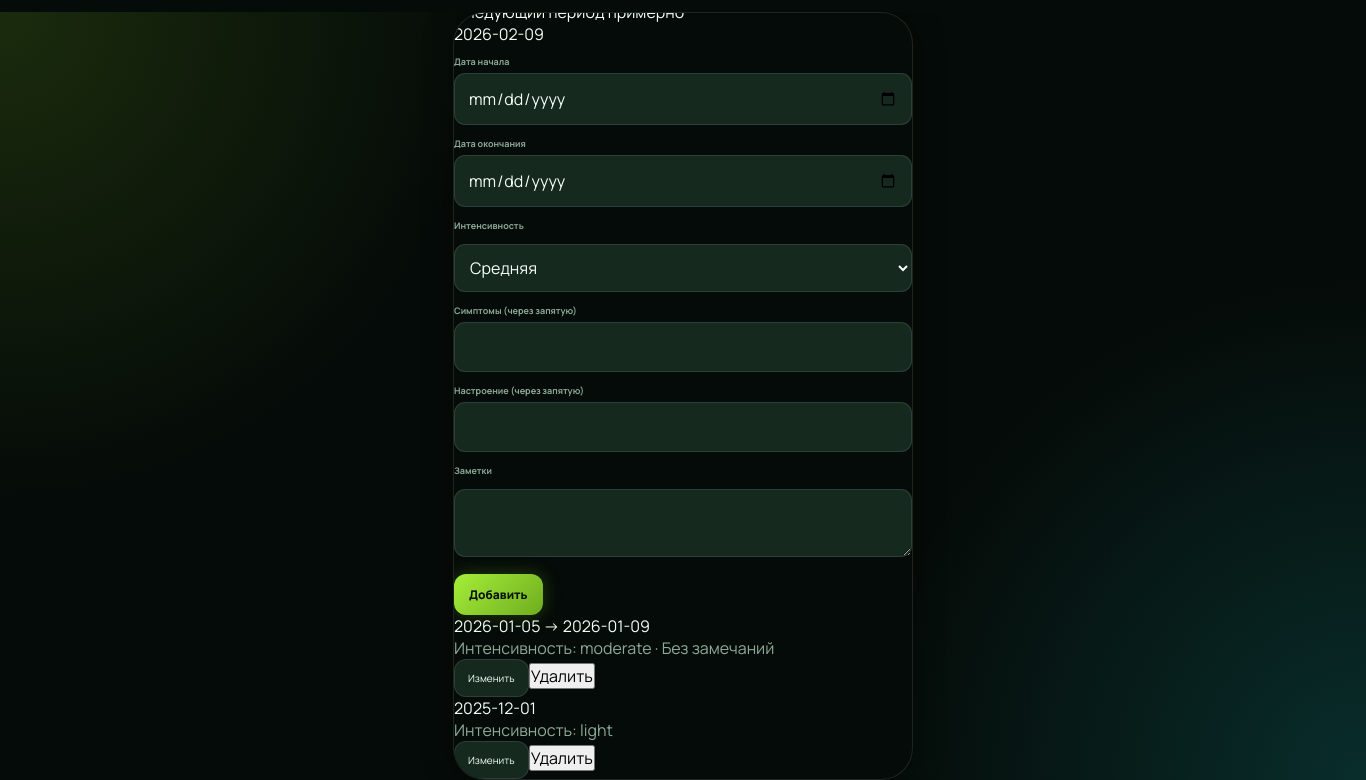
Menstrual › edits existing cycle and saves updates
This screenshot has width=1366, height=780.
(page scrolled)
Expected: the text "2026-01-05 → 2026-01-09" is shown, [454,615,650,637]
Step 1. Click the button "Изменить" below "Интенсивность: moderate · Без замечаний" → (491, 678), box [454,659,529,697]
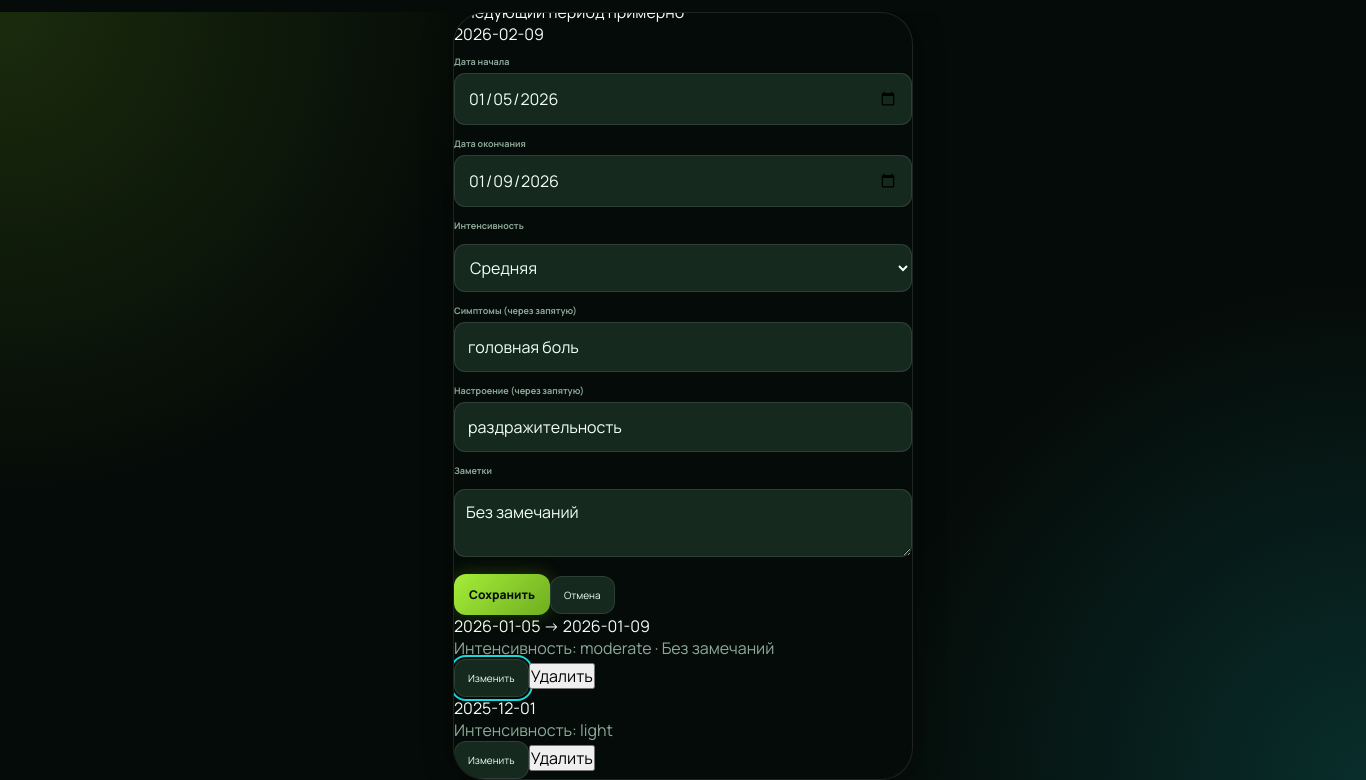
Now the date field with id "start_date" holds "2026-01-05", box [454,73,912,125]
Now the date field with id "end_date" holds "2026-01-09", box [454,155,912,207]
Now the field with id "symptoms" holds "головная боль", box [454,322,912,372]
Step 2. Select "Легкая" in the dropdown with id "flow_intensity" → (683, 268), box [454,244,912,292]
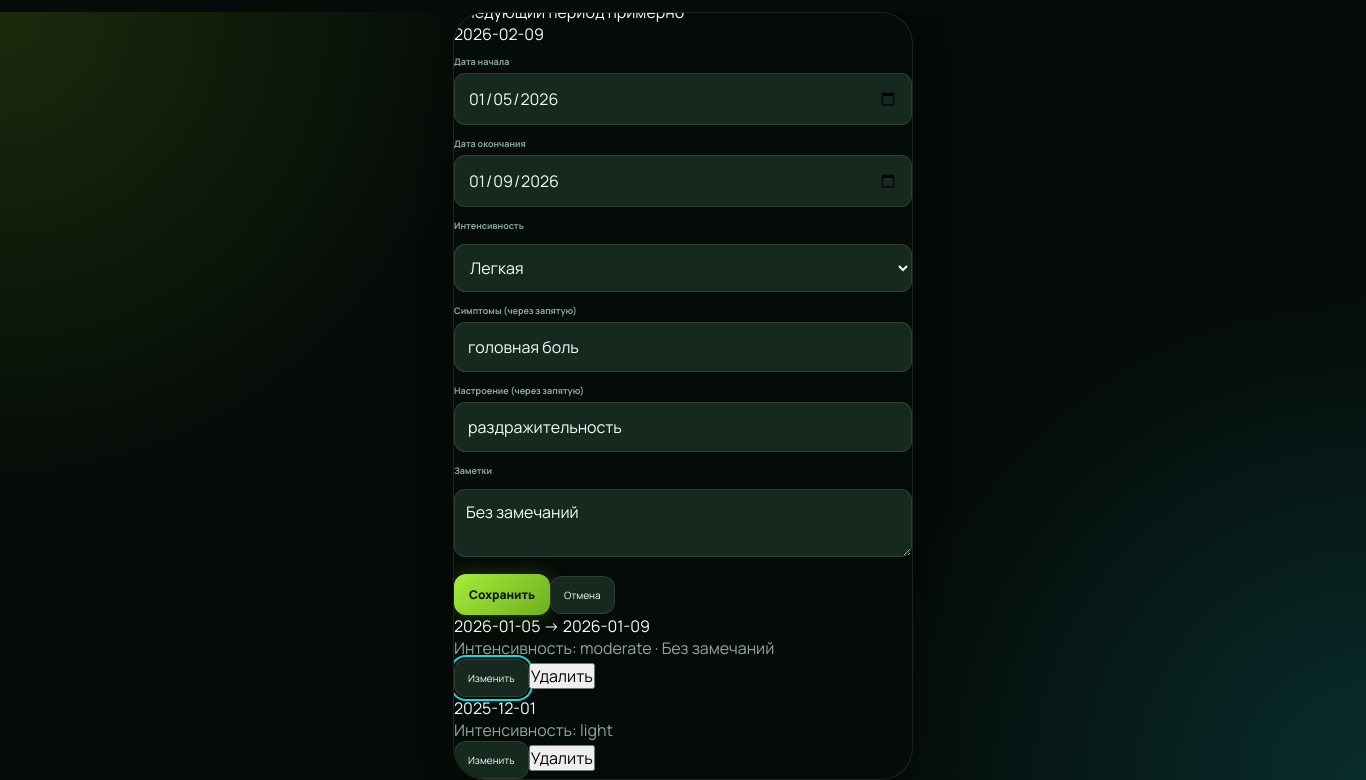
Step 3. Type "2026-01-10" into the date field with id "end_date" → (683, 181), box [454,155,912,207]
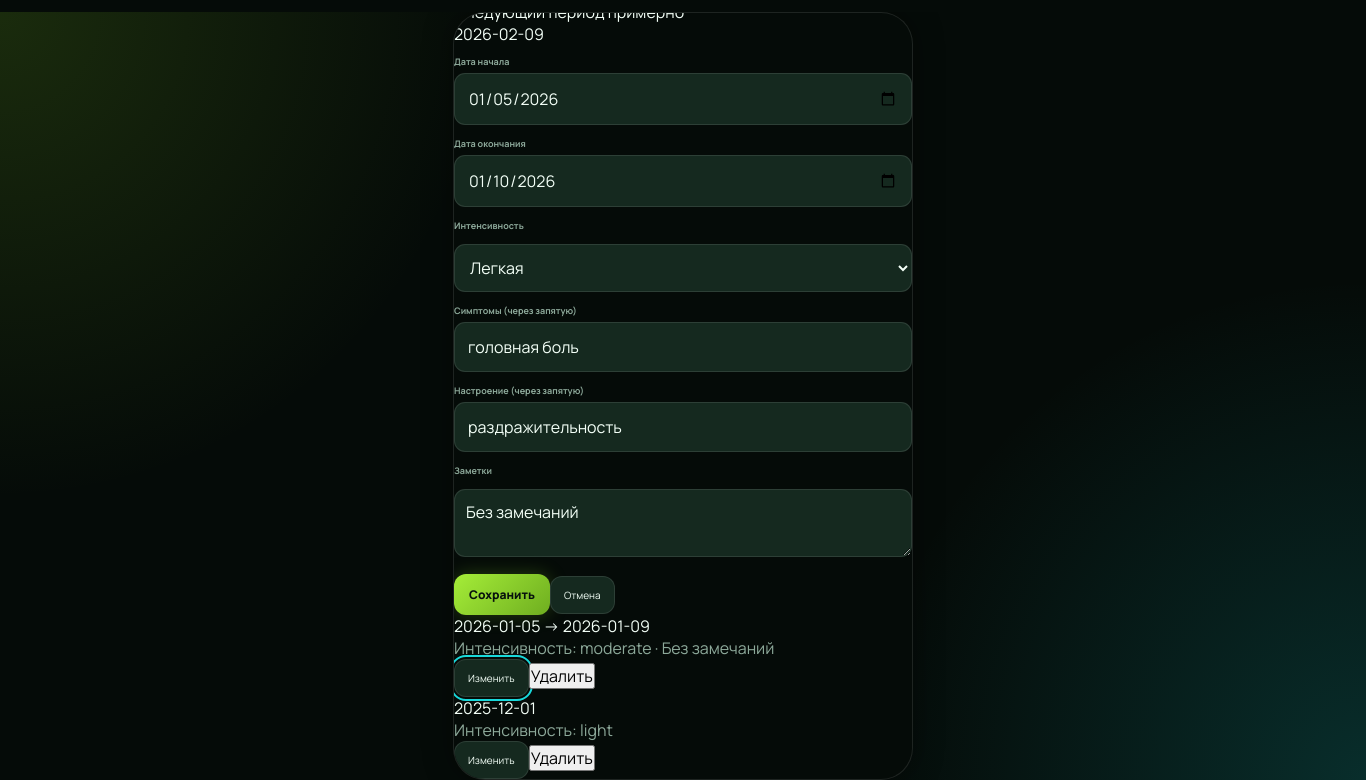
Step 4. Click the button "Сохранить" → (502, 595), box [454,574,550,615]
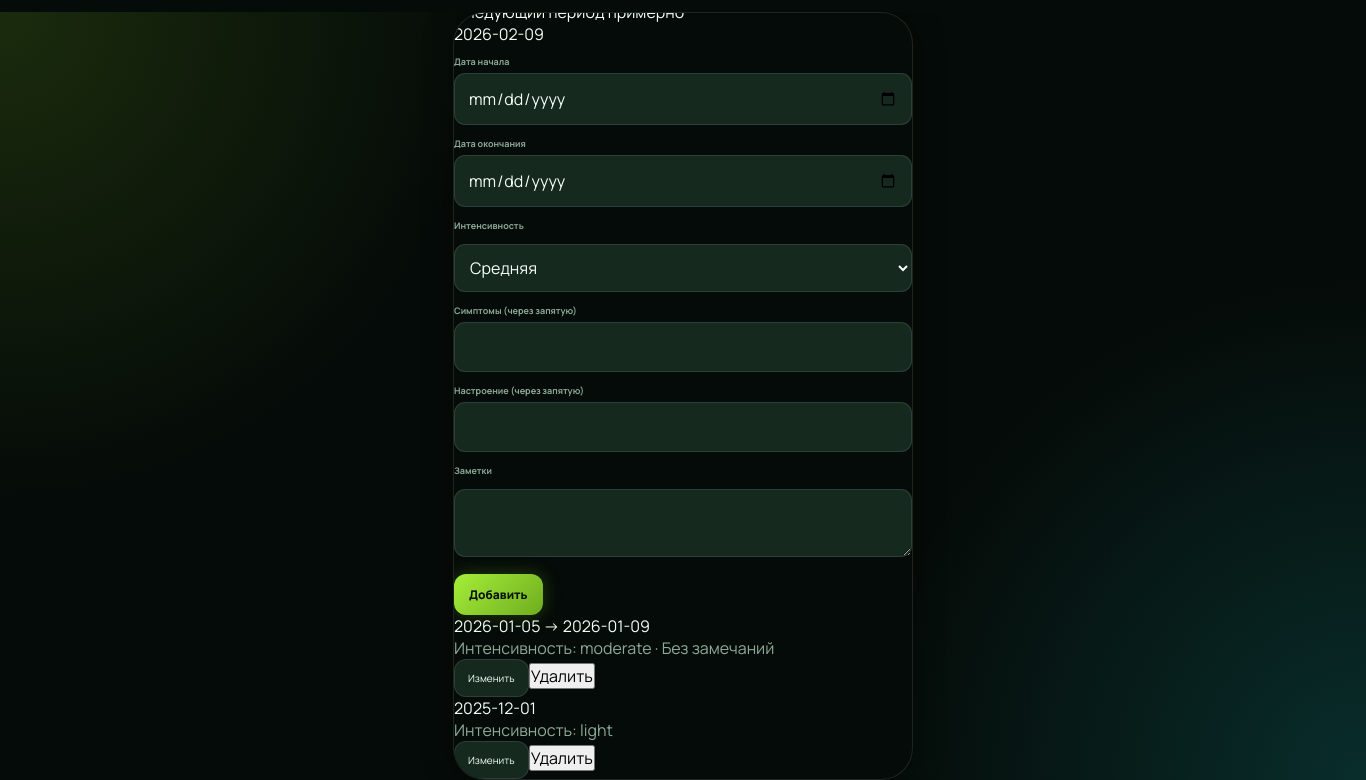
Now the button "Добавить" is shown, box [454,574,542,615]
